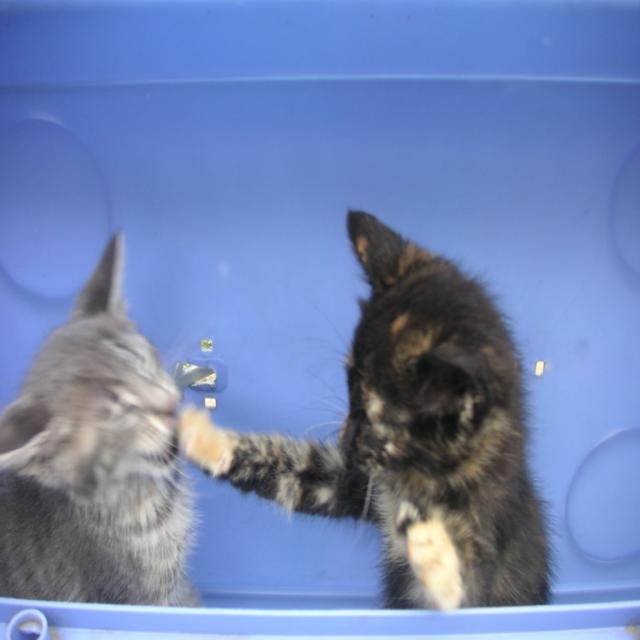Cat: (179, 208, 560, 602), (2, 222, 222, 620)
